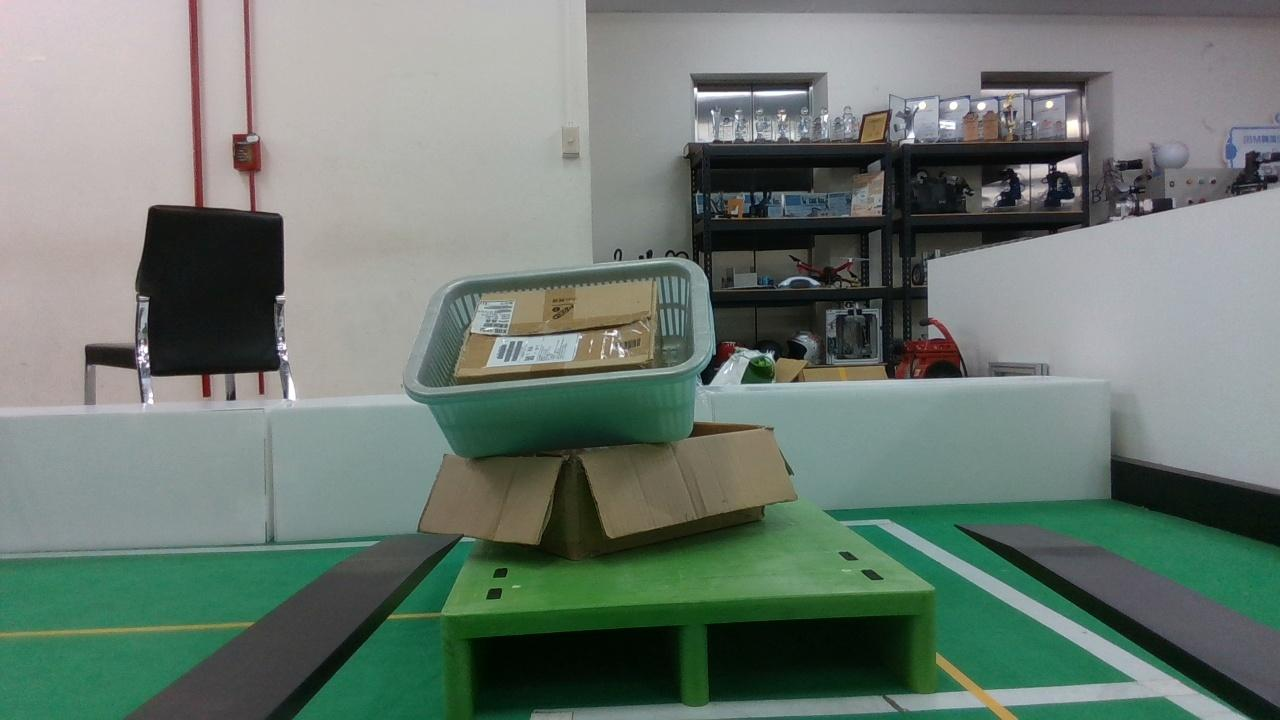Pallet: (442, 588, 938, 720)
